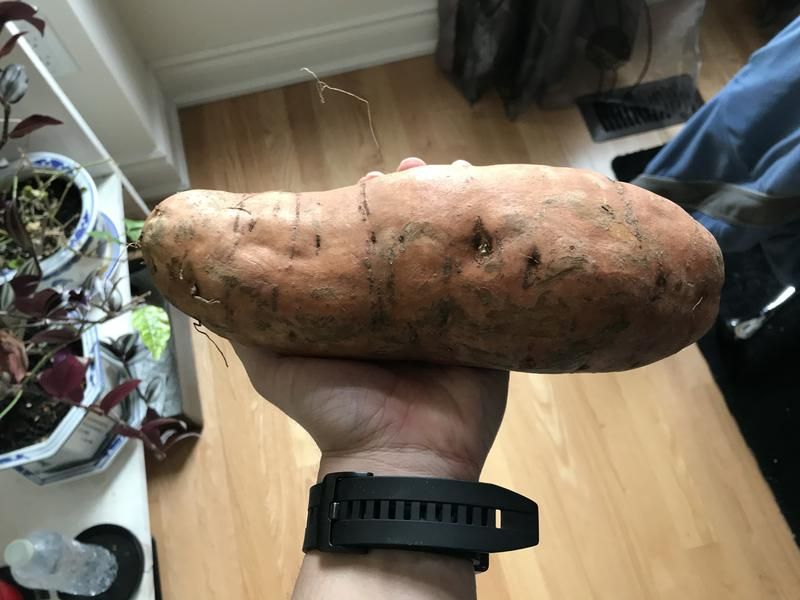sweet_potato: (128, 152, 732, 385)
